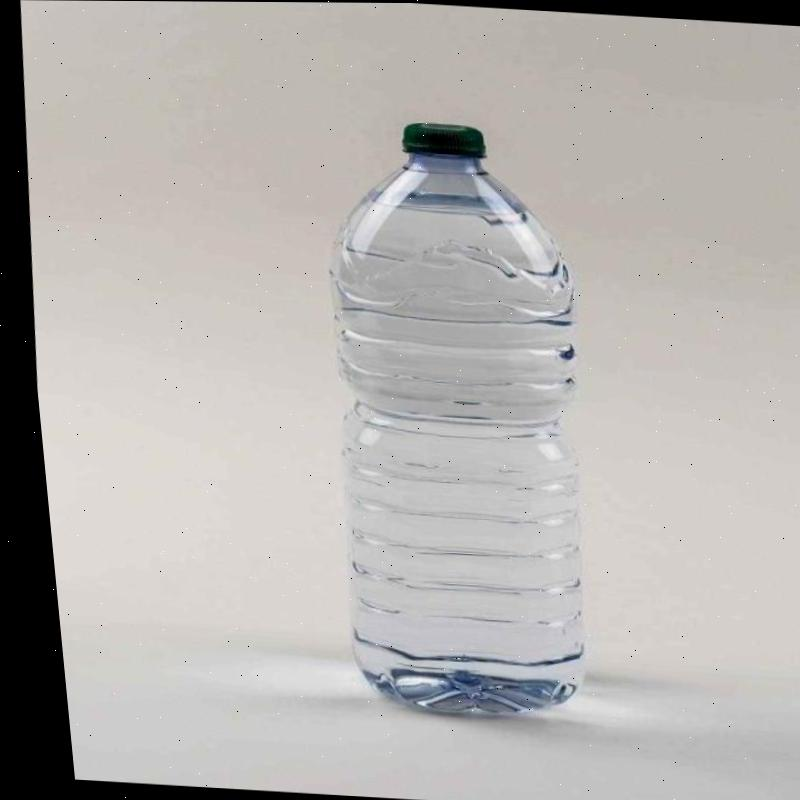botella: (278, 113, 612, 724)
